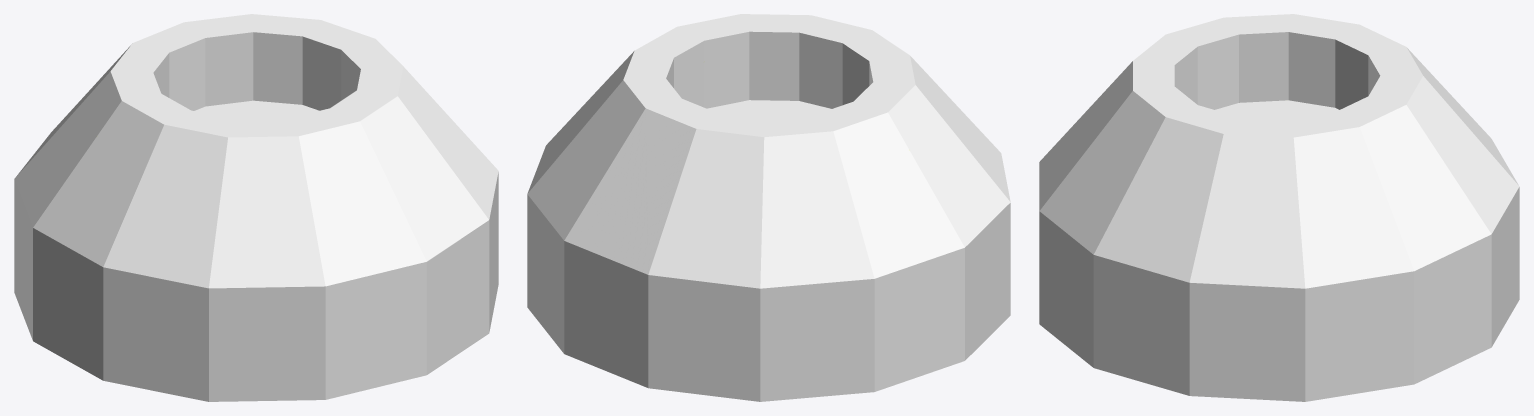
The model's file is LampHolderProp.fbx.
The picture shows the model from 3 angles, left to right: view 1: azimuth 30°, elevation 25°; view 2: azimuth 150°, elevation 25°; view 3: azimuth 270°, elevation 25°; orthographic projection.
Visible parts, largest first — view 1: Cylinder.001; view 2: Cylinder.001; view 3: Cylinder.001.
Boxes of the visible parts, x1=… form: Cylinder.001: x1=14, y1=14, x2=498, y2=401; Cylinder.001: x1=527, y1=14, x2=1010, y2=401; Cylinder.001: x1=1039, y1=14, x2=1519, y2=401.
Bounding box in the file's own units: 189 × 96.38 × 187.
